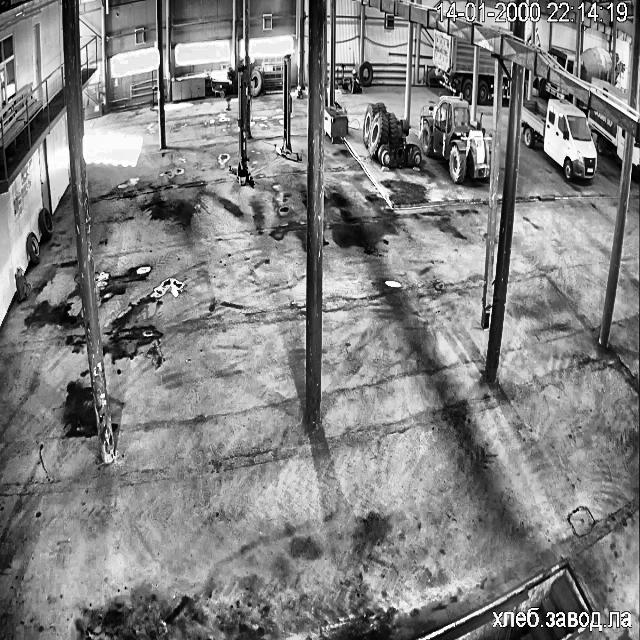class6: (420, 96, 489, 182), (362, 102, 420, 166)
class7: (521, 100, 596, 180), (432, 28, 473, 100), (588, 108, 624, 160), (580, 46, 612, 83), (477, 48, 494, 102), (593, 80, 628, 103), (536, 77, 571, 99), (549, 45, 574, 73), (632, 140, 640, 178), (498, 73, 509, 99), (504, 60, 510, 75), (616, 58, 620, 76)
tractor: (16, 268, 30, 300)
truck: (230, 66, 253, 186), (275, 53, 300, 161)
